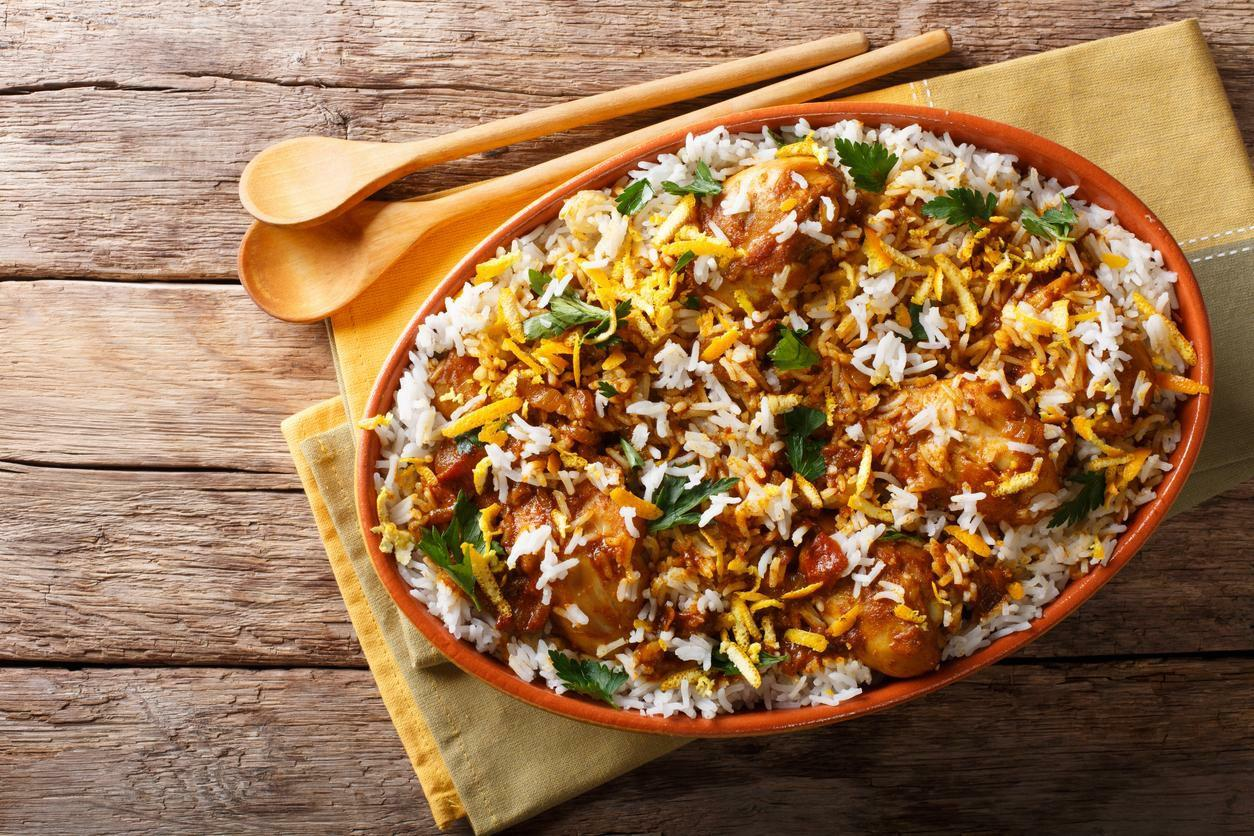Biryani: (359, 117, 1213, 723)
